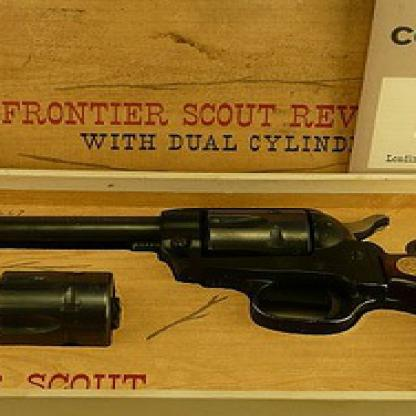gun: (0, 208, 414, 393)
